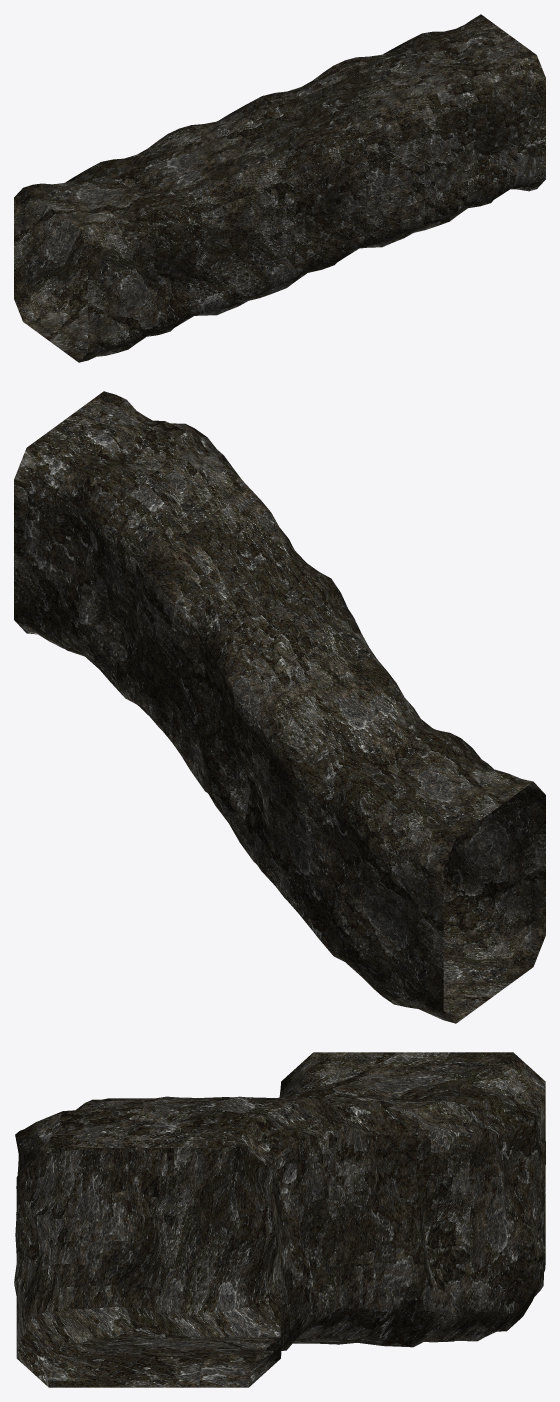
The model's file is Cave.fbx.
3 renders of one model, top to bottom at view 1: azimuth 30°, elevation 25°; view 2: azimuth 150°, elevation 25°; view 3: azimuth 270°, elevation 25°, orthographic. The views are drawn at different scales.
Parts seen in each view (by area): view 1: Cave; view 2: Cave; view 3: Cave.
Part boxes in pixels (bbox=[...]): Cave: bbox=[14, 14, 545, 362]; Cave: bbox=[14, 391, 545, 1023]; Cave: bbox=[14, 1052, 545, 1387].
Size of the model in its own units: 900 by 604 by 603.
